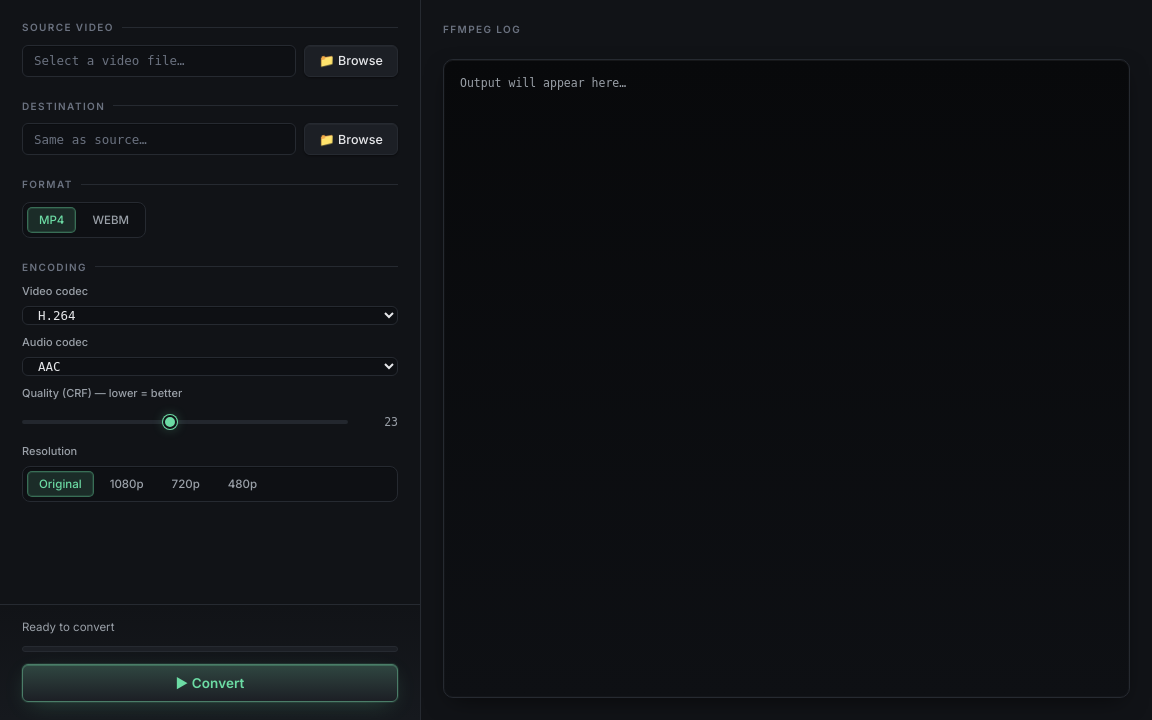
Test: VideoConverter › switches codec options when format changes to WebM
The image size is (1152, 720).
What coordinates should you click on to do the following:
click the button "WEBM"
I would click on:
 (111, 220)
Its box is [80, 206, 141, 232].
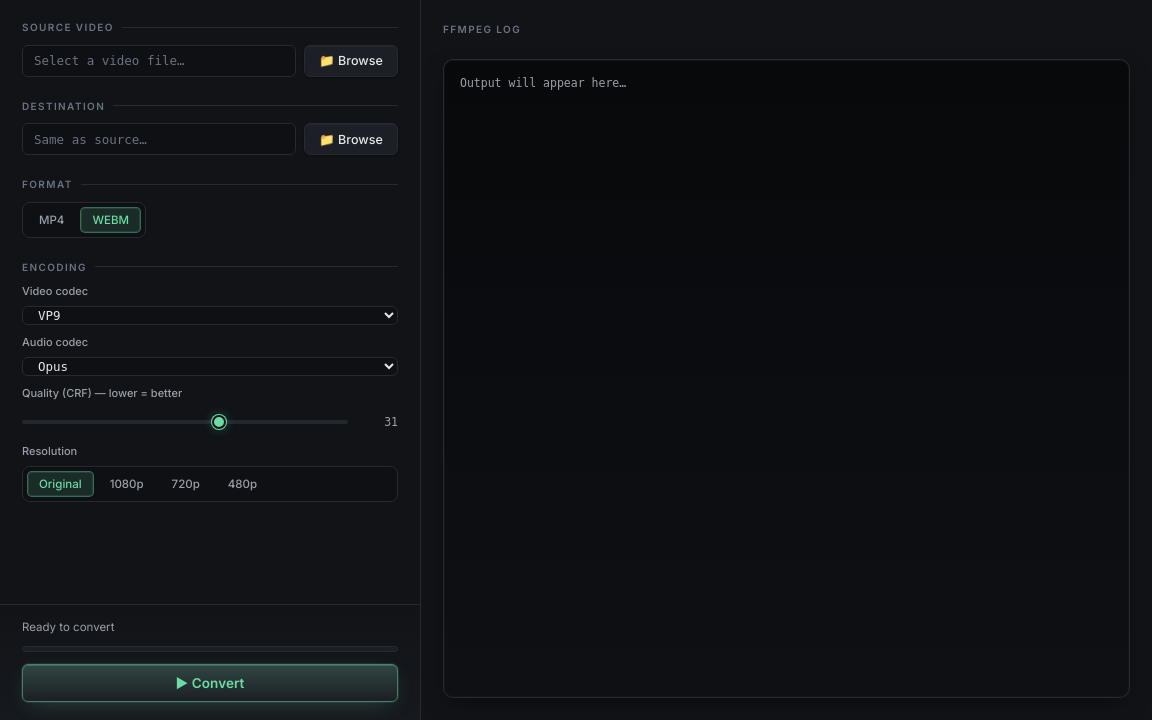
Now the dropdown showing "VP9" below "Video codec" is shown, box [22, 306, 398, 325]
